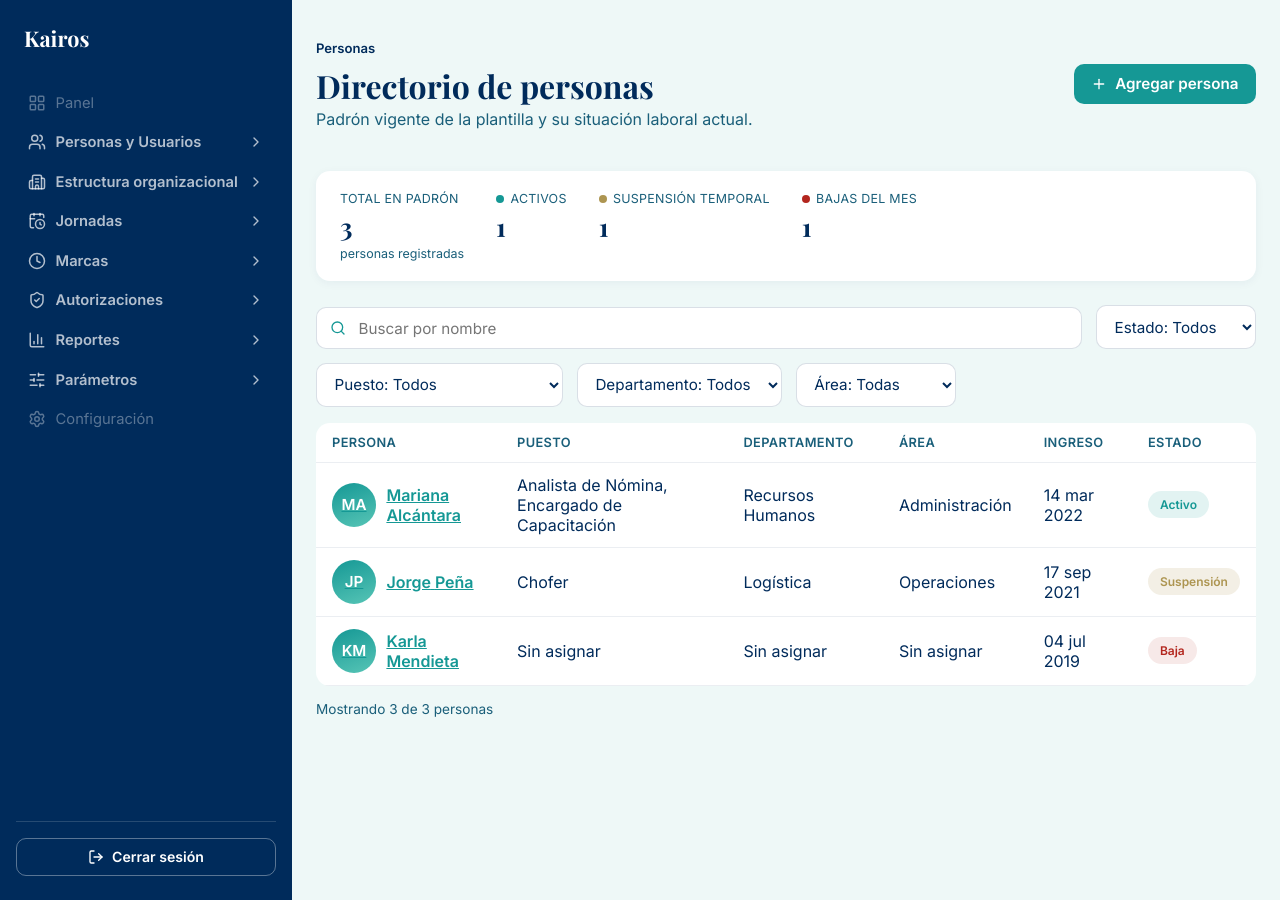
DirectorioPersonasPage › filtra por puesto: coincide si alguno de los puestos vigentes de la persona coincide
The width and height of the screenshot is (1280, 900).
Check: the link "MA Mariana Alcántara" is shown, box [332,482,461,526]
Select "Analista de Nómina" in the dropdown named "filtrar por puesto" at [440, 385], box [316,363,563,407]
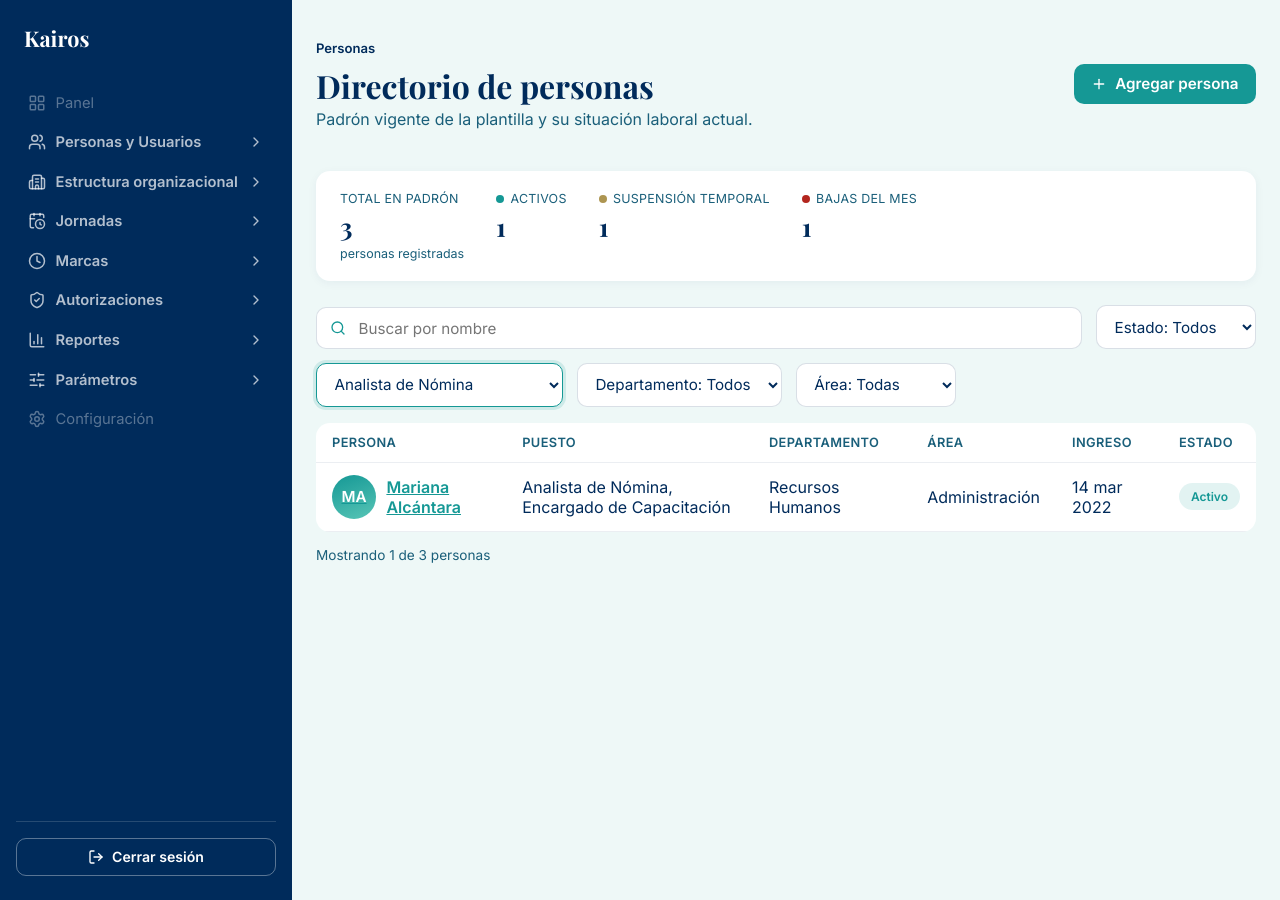
Check: the link "MA Mariana Alcántara" is shown, box [332,474,461,518]
Check: the link "Jorge Peña" is gone
Check: the link "Karla Mendieta" is gone
